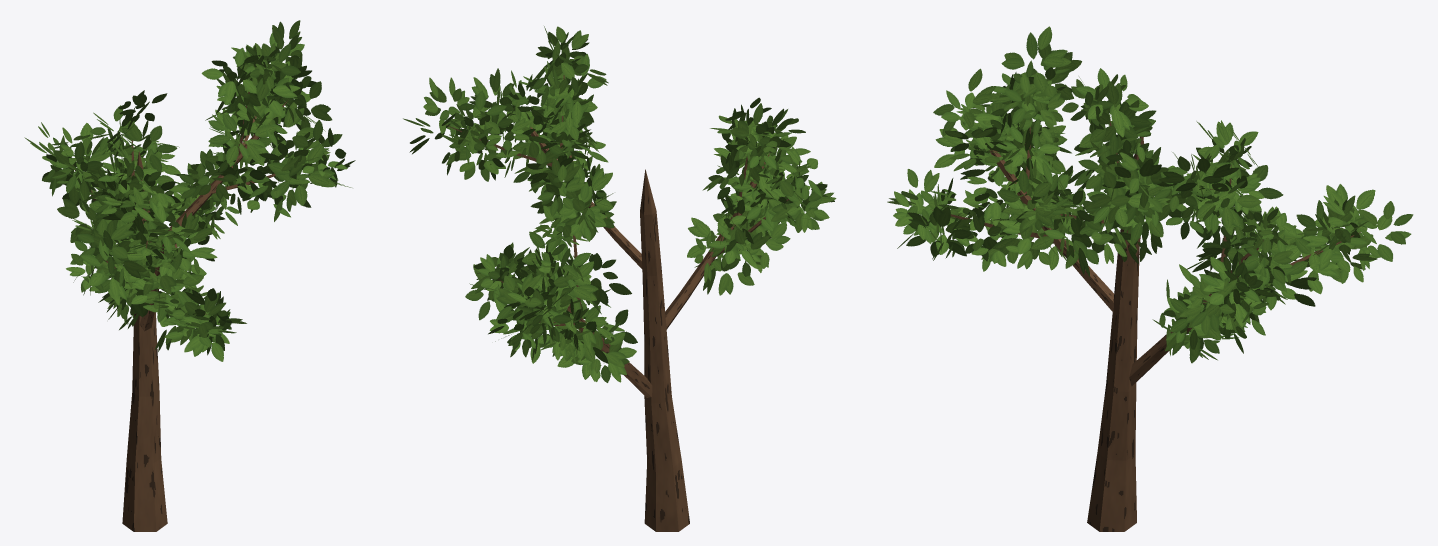
The model's file is young-oak.obj.
The picture shows the model from 3 angles, left to right: view 1: azimuth 30°, elevation 25°; view 2: azimuth 150°, elevation 25°; view 3: azimuth 270°, elevation 25°; orthographic projection. The views are drawn at different scales.
Bounding box in the file's own units: 7.55 × 9.6 × 9.18.
Materials: 2 (2 with a texture image).
